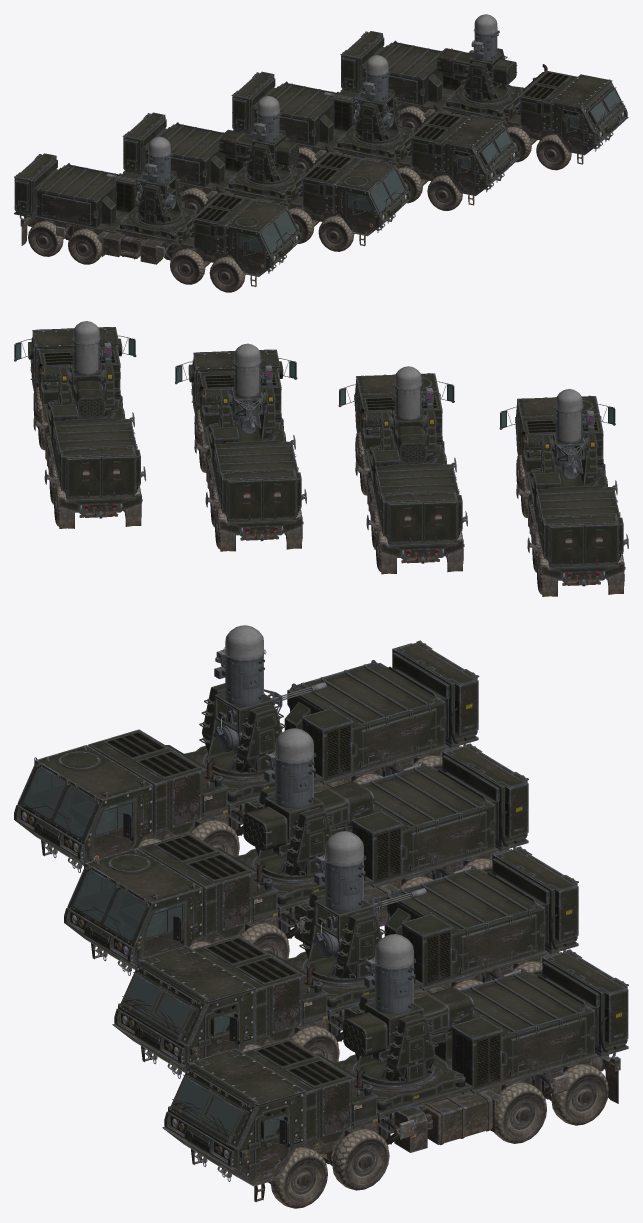
Rendered from centurion_c-ram_searam__broken_arrow.glb.
3 renders of one model, top to bottom at view 1: azimuth 30°, elevation 25°; view 2: azimuth 150°, elevation 25°; view 3: azimuth 270°, elevation 25°, orthographic. The views are drawn at different scales.
Visible parts, largest first — view 1: Object_3, Object_9, Object_6, Object_12, Object_8, Object_11, Object_13, Object_7, Object_2, Object_5, Object_10, Object_4 (+1 smaller); view 2: Object_9, Object_3, Object_12, Object_6, Object_7, Object_13, Object_10, Object_4, Object_8, Object_11, Object_5, Object_2; view 3: Object_12, Object_3, Object_6, Object_9, Object_11, Object_13, Object_8, Object_7, Object_14, Object_2, Object_4, Object_10 (+1 smaller).
Boxes of the visible parts, left/top/right/bottom form: Object_3: left=14, top=153, right=253, bottom=292; Object_9: left=231, top=71, right=468, bottom=210; Object_6: left=122, top=112, right=362, bottom=251; Object_12: left=340, top=31, right=577, bottom=170; Object_8: left=441, top=115, right=519, bottom=205; Object_11: left=550, top=74, right=628, bottom=164; Object_13: left=436, top=14, right=517, bottom=104; Object_7: left=219, top=96, right=299, bottom=186; Object_2: left=225, top=200, right=301, bottom=286; Object_5: left=334, top=159, right=410, bottom=246; Object_10: left=324, top=55, right=402, bottom=145; Object_4: left=106, top=136, right=184, bottom=227; Object_9: left=194, top=369, right=306, bottom=551; Object_3: left=516, top=414, right=628, bottom=596; Object_12: left=33, top=346, right=146, bottom=528; Object_6: left=355, top=392, right=467, bottom=574; Object_7: left=377, top=366, right=439, bottom=464; Object_13: left=55, top=321, right=117, bottom=419; Object_10: left=216, top=343, right=278, bottom=441; Object_4: left=538, top=389, right=599, bottom=486; Object_8: left=175, top=349, right=297, bottom=413; Object_11: left=14, top=327, right=136, bottom=390; Object_5: left=338, top=373, right=454, bottom=434; Object_2: left=499, top=395, right=615, bottom=457; Object_12: left=243, top=949, right=628, bottom=1208; Object_3: left=88, top=640, right=479, bottom=856; Object_6: left=138, top=743, right=528, bottom=959; Object_9: left=193, top=846, right=578, bottom=1062; Object_11: left=162, top=1048, right=306, bottom=1202; Object_13: left=342, top=934, right=474, bottom=1088; Object_8: left=112, top=945, right=256, bottom=1078; Object_7: left=242, top=728, right=374, bottom=882; Object_14: left=24, top=767, right=284, bottom=1136; Object_2: left=14, top=745, right=153, bottom=872; Object_4: left=199, top=625, right=326, bottom=779; Object_10: left=299, top=831, right=426, bottom=985.
Size of the model in its own units: 23.2 by 4.99 by 12.88.
2 materials, 1 textured.
